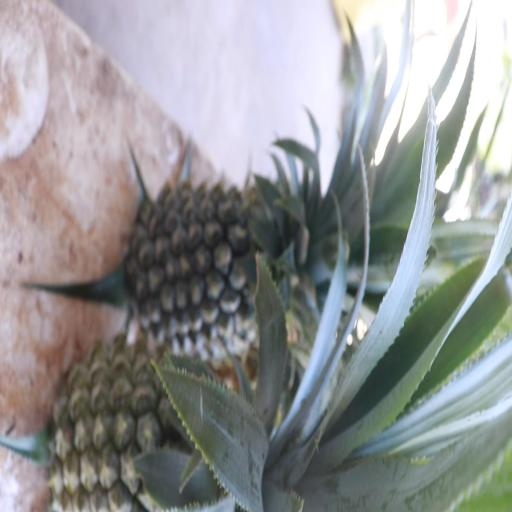------------------------------: (49, 341, 262, 512)
